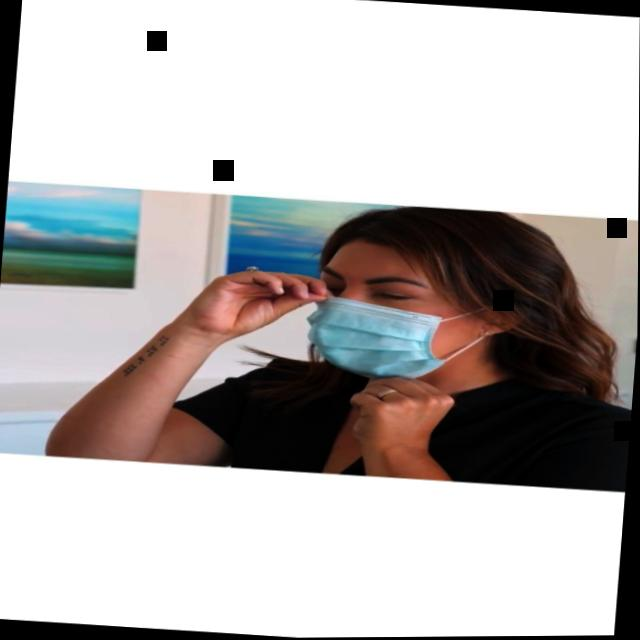Mask: (300, 234, 503, 390)
